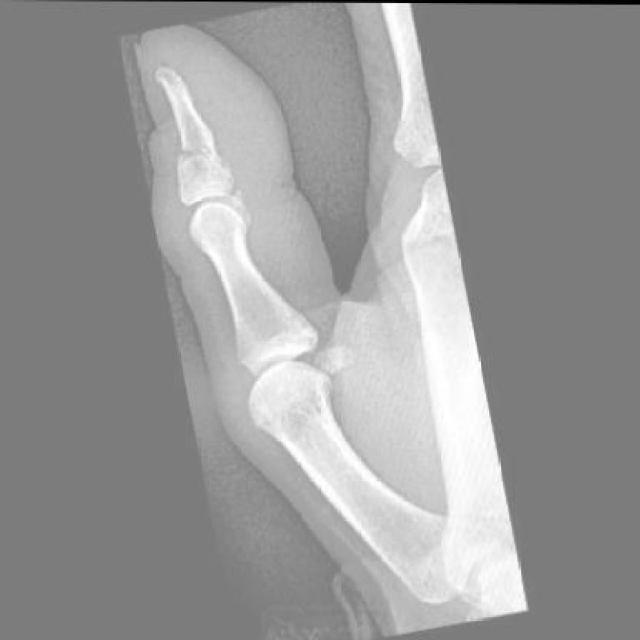Fracture: (152, 114, 231, 182)
